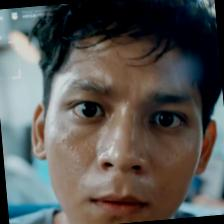Oily: (44, 57, 202, 224)
